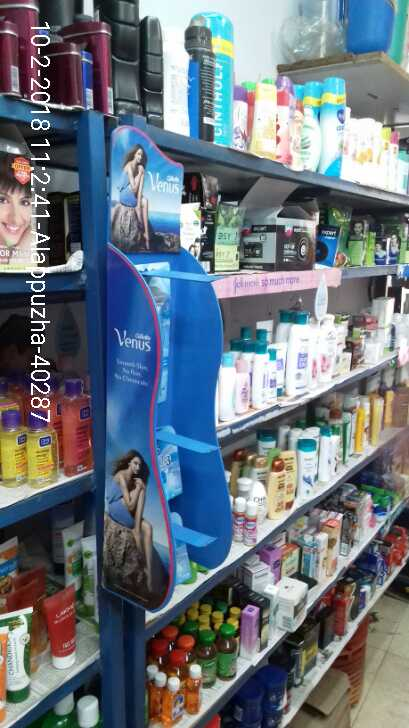reject: (182, 205, 331, 362)
